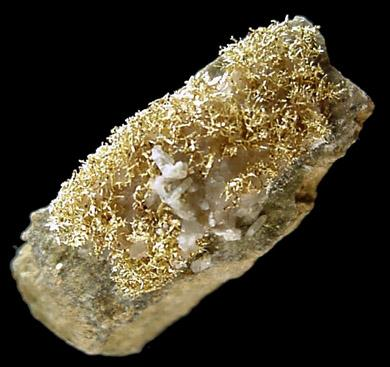gold: (50, 20, 342, 294)
